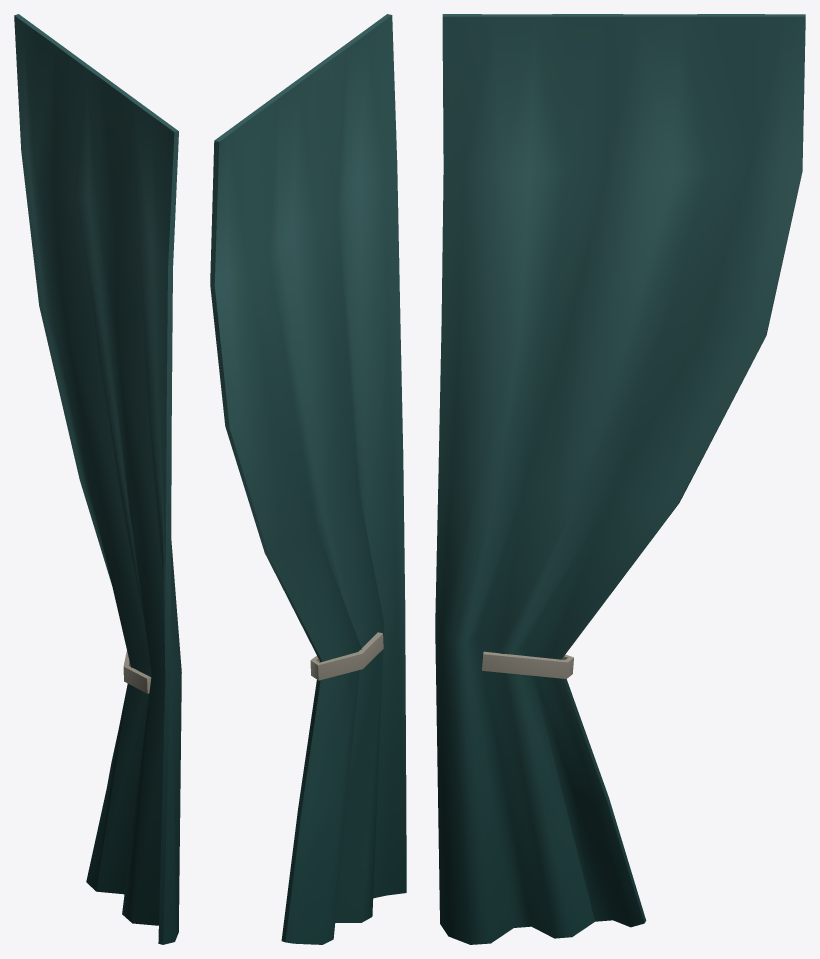
The model's file is TSP_Curtain_01C.R.fbx.
3 renders of one model, left to right at view 1: azimuth 30°, elevation 25°; view 2: azimuth 150°, elevation 25°; view 3: azimuth 270°, elevation 25°, orthographic. The views are drawn at different scales.
Parts seen in each view (by area): view 1: TSP_Curtain_01C.R; view 2: TSP_Curtain_01C.R; view 3: TSP_Curtain_01C.R.
Boxes of the visible parts, x1,y1,x2,y2 form: TSP_Curtain_01C.R: (14, 14, 181, 944); TSP_Curtain_01C.R: (210, 14, 406, 944); TSP_Curtain_01C.R: (435, 14, 805, 944).
Size of the model in its own units: 0.1128 by 2.49 by 0.9088.
